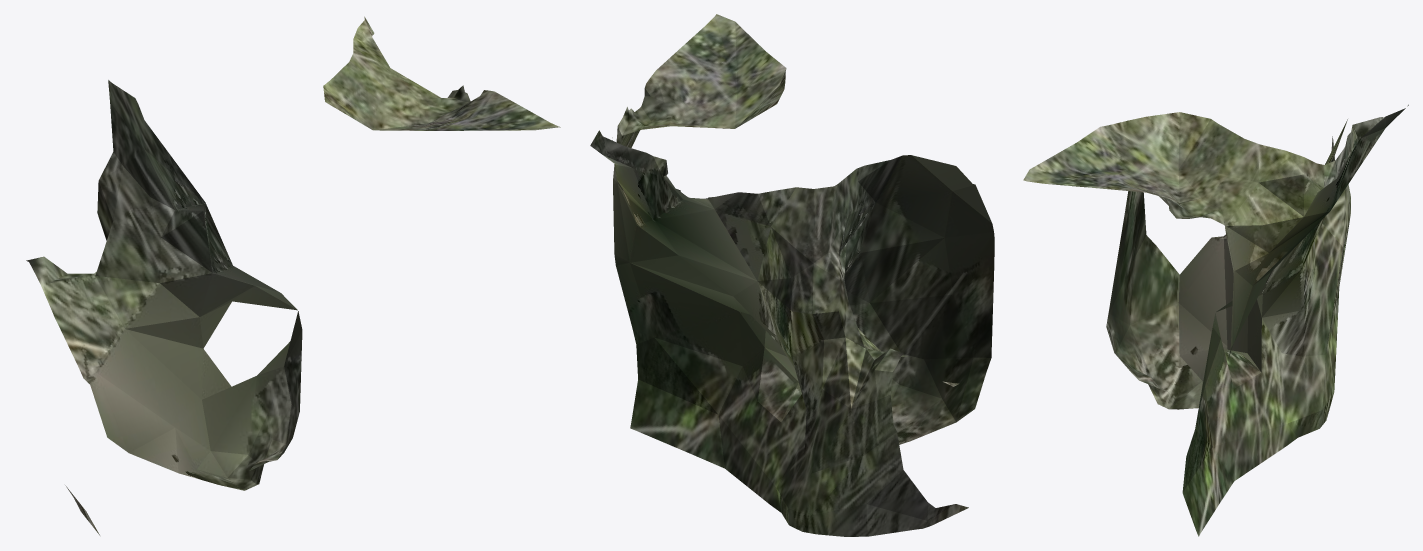
3 renders of one model, left to right at view 1: azimuth 30°, elevation 25°; view 2: azimuth 150°, elevation 25°; view 3: azimuth 270°, elevation 25°, orthographic. The views are drawn at different scales.
Size of the model in its own units: 2.95 by 2.95 by 2.89.
5 materials, 5 textured.
